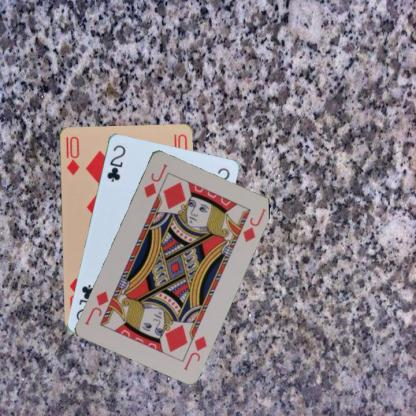10d: (63, 134, 80, 176)
2c: (104, 142, 127, 183)
Jd: (141, 160, 169, 198), (181, 333, 208, 371)
